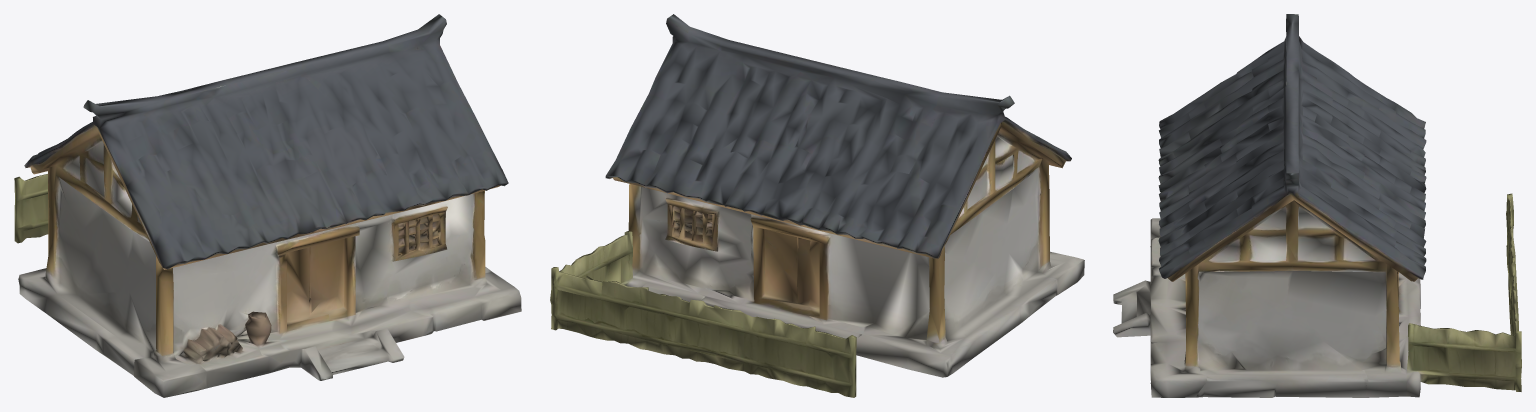
File: house_lo.glb
3 views of the same model, side by side, from view 1: azimuth 30°, elevation 25°; view 2: azimuth 150°, elevation 25°; view 3: azimuth 270°, elevation 25° (orthographic). The views are drawn at different scales.
Parts seen in each view (by area): view 1: tripo_node_2453ee2a-a3d3-45ea-ad56-e49c16b9d721; view 2: tripo_node_2453ee2a-a3d3-45ea-ad56-e49c16b9d721; view 3: tripo_node_2453ee2a-a3d3-45ea-ad56-e49c16b9d721.
Boxes of the visible parts, box(x1,y1,x2,y2) form: tripo_node_2453ee2a-a3d3-45ea-ad56-e49c16b9d721: box(14, 14, 521, 397); tripo_node_2453ee2a-a3d3-45ea-ad56-e49c16b9d721: box(550, 14, 1084, 397); tripo_node_2453ee2a-a3d3-45ea-ad56-e49c16b9d721: box(1113, 14, 1521, 397).
Size of the model in its own units: 0.9429 by 0.6066 by 0.997.
1 material, 1 textured.
